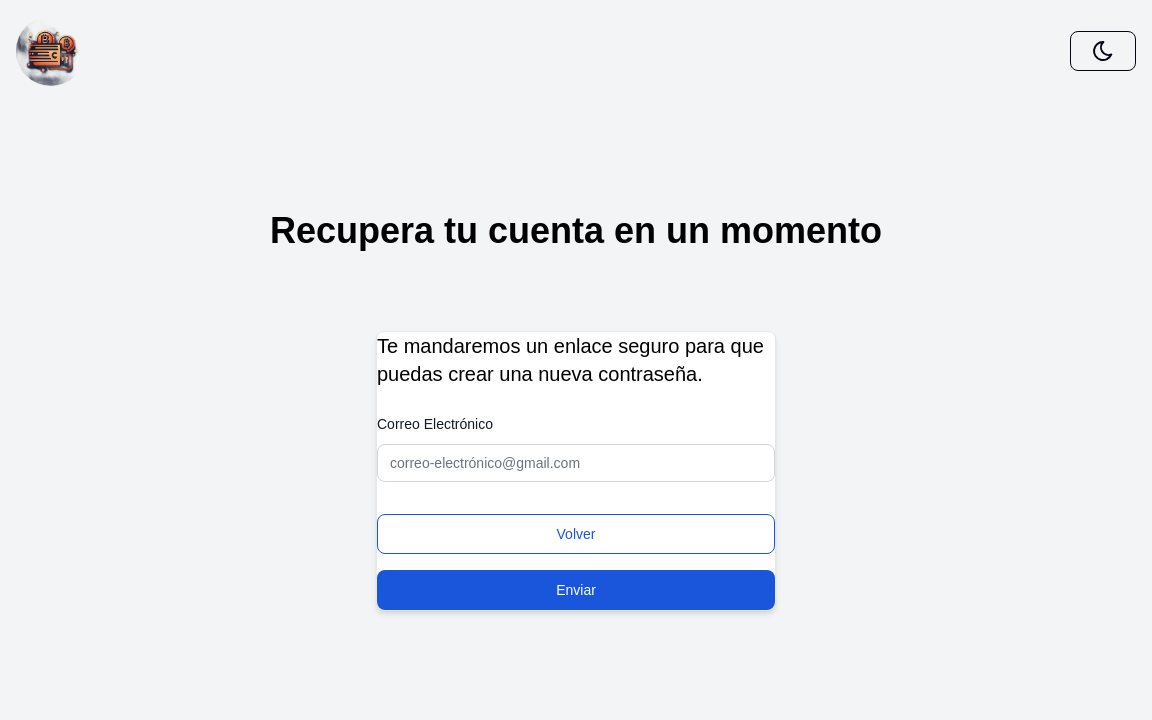
it: ForgotPasswordPage › Form validation › Given a user leaving the email input empty, show error
Click the button "Enviar" at [576, 590], box [377,570,775,610]
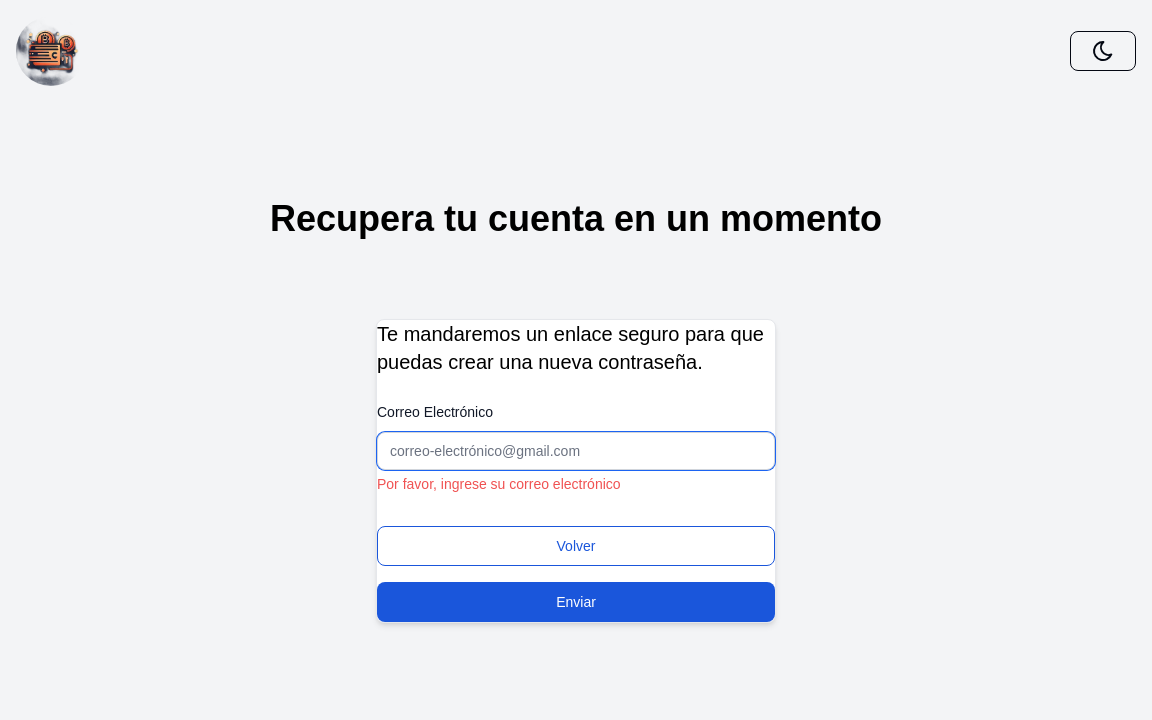
Expected: the text "Por favor, ingrese su correo electrónico" is shown, [377,476,621,492]
